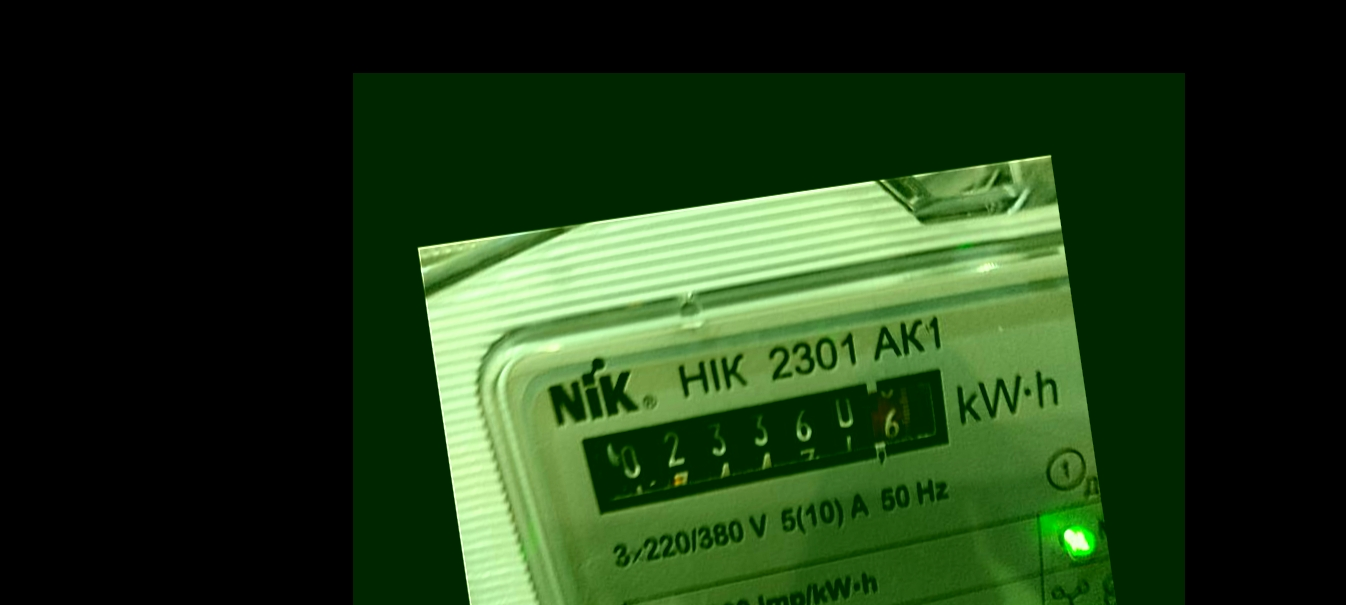0: (615, 441, 646, 486), (830, 394, 859, 434)
2: (658, 428, 689, 472)
3: (704, 420, 730, 463), (745, 412, 772, 453)
6: (787, 405, 818, 450), (880, 407, 906, 445)
screen: (556, 356, 970, 530)
